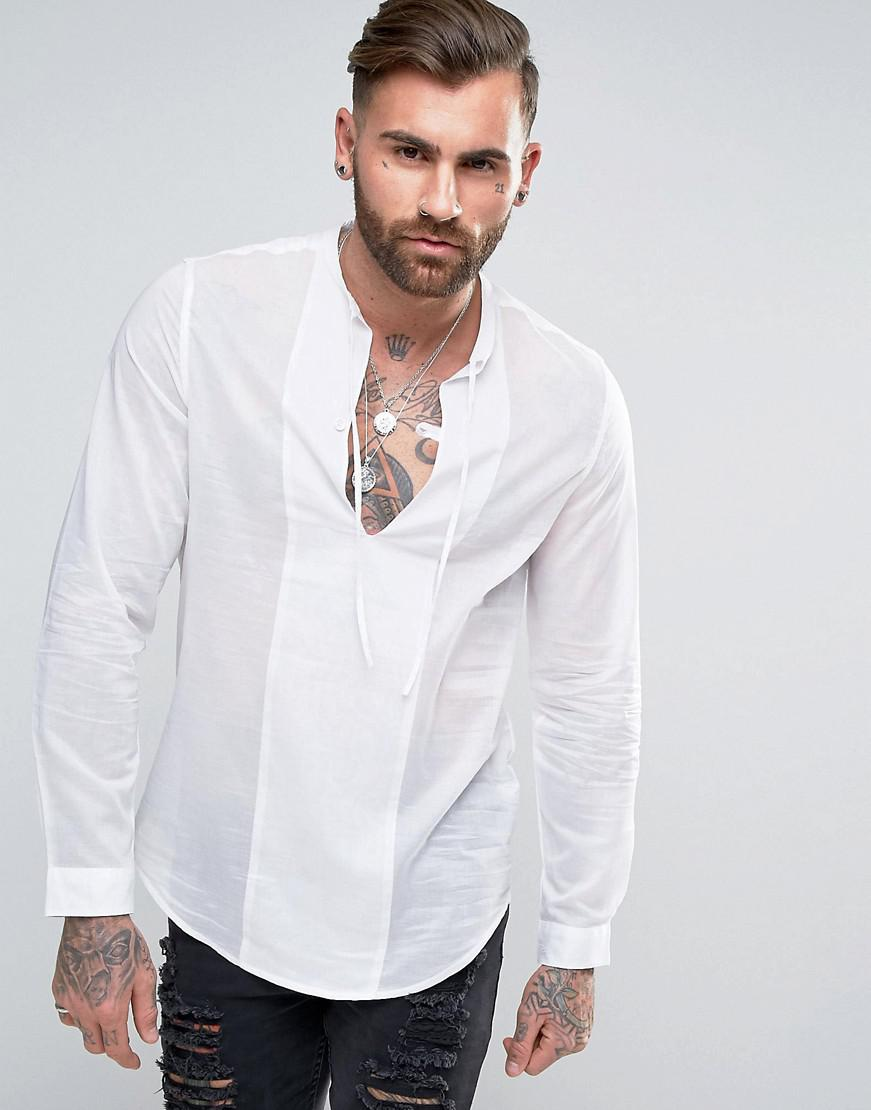teeshirt: (79, 230, 657, 1020)
